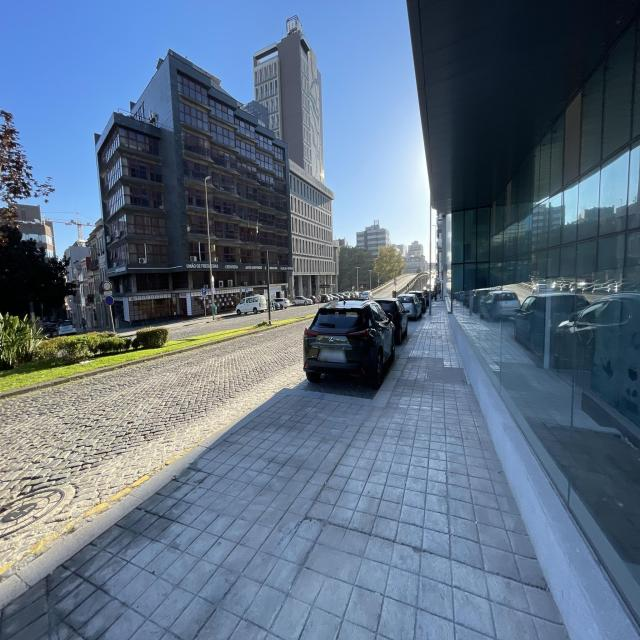forb_stopping: (104, 295, 114, 306)
